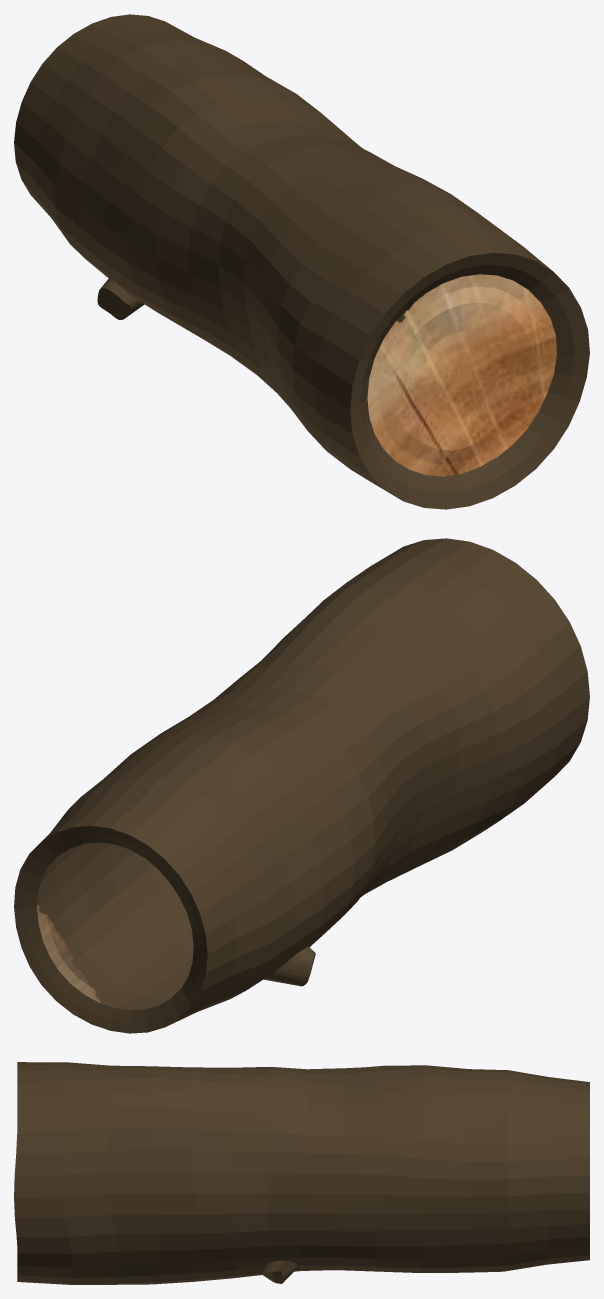
The model's file is log.fbx.
3 renders of one model, top to bottom at view 1: azimuth 30°, elevation 25°; view 2: azimuth 150°, elevation 25°; view 3: azimuth 270°, elevation 25°, orthographic. The views are drawn at different scales.
Parts seen in each view (by area): view 1: Cylinder; view 2: Cylinder; view 3: Cylinder.
Part boxes in pixels (box(x1,y1,x2,y2)): Cylinder: box(14, 14, 589, 509); Cylinder: box(14, 538, 589, 1033); Cylinder: box(14, 1062, 589, 1284).
Bounding box in the file's own units: 197 × 201 × 509.
